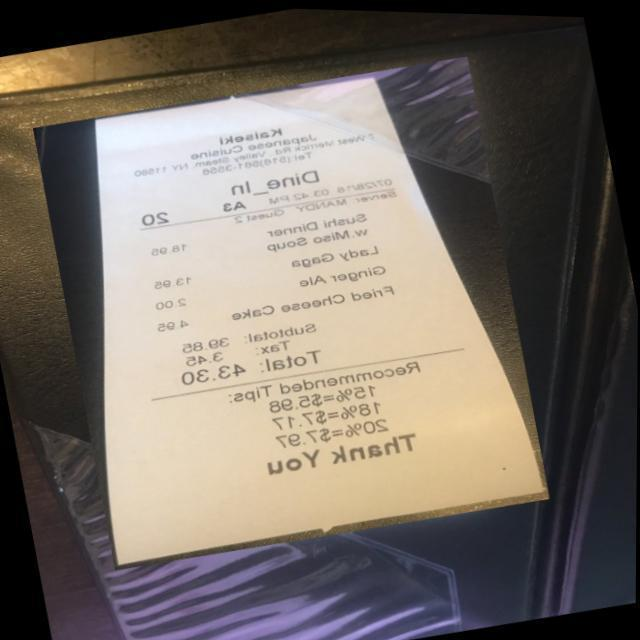Paper: (29, 43, 552, 579)
